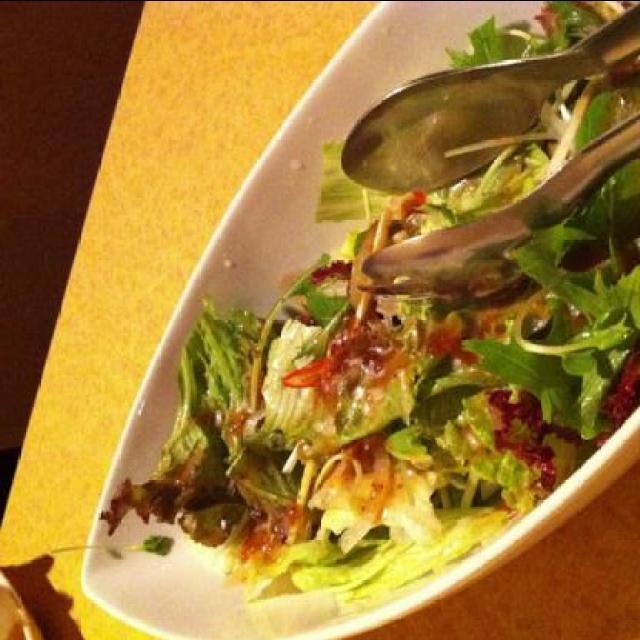Salad: (48, 0, 640, 618)
